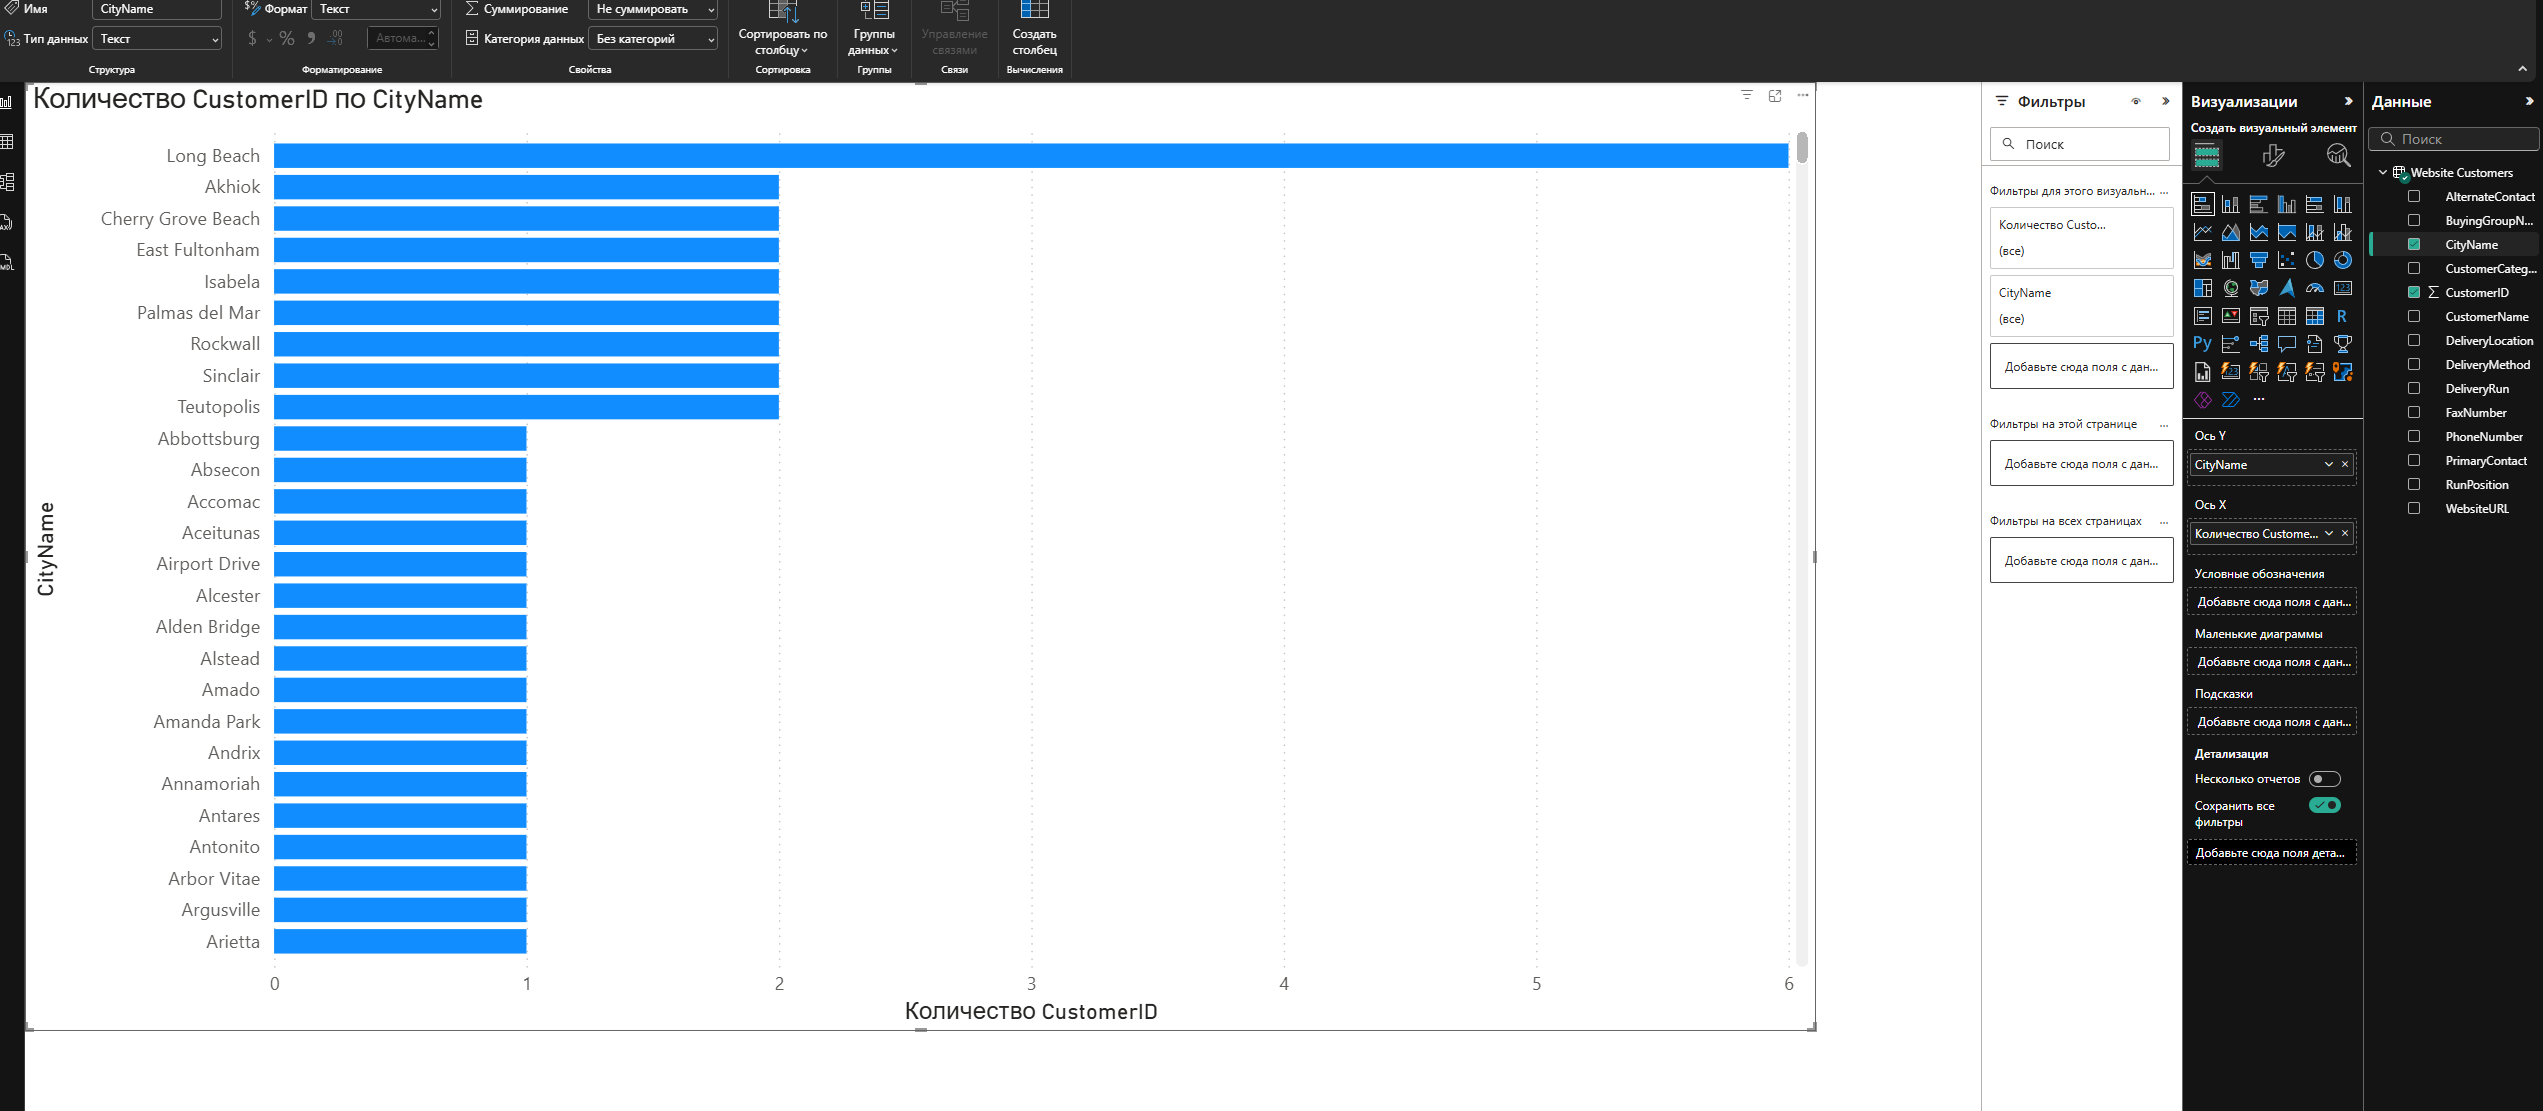

The page's visual inventory and layout, read from the dashboard file:
{"tool":"powerbi","page":{"name":"Страница 1","canvas":[1280,720],"ordinal":0},"visuals":[{"type":"barChart","fields":{"Category":["Website Customers.CityName"],"Y":["CountNonNull(Website Customers.CustomerID)"]},"box":[0,0,1172,621],"z":0}]}

Visuals, with their boxes on the page's 1280x720 design canvas (x1, y1, x2, y2). These are canvas units, not pixel positions in the 2543x1111 screenshot, which may show the page scaled, cropped or inside an application window:
barChart - Website Customers.CityName x CountNonNull(Website Customers.CustomerID): region(0, 0, 1172, 621)
